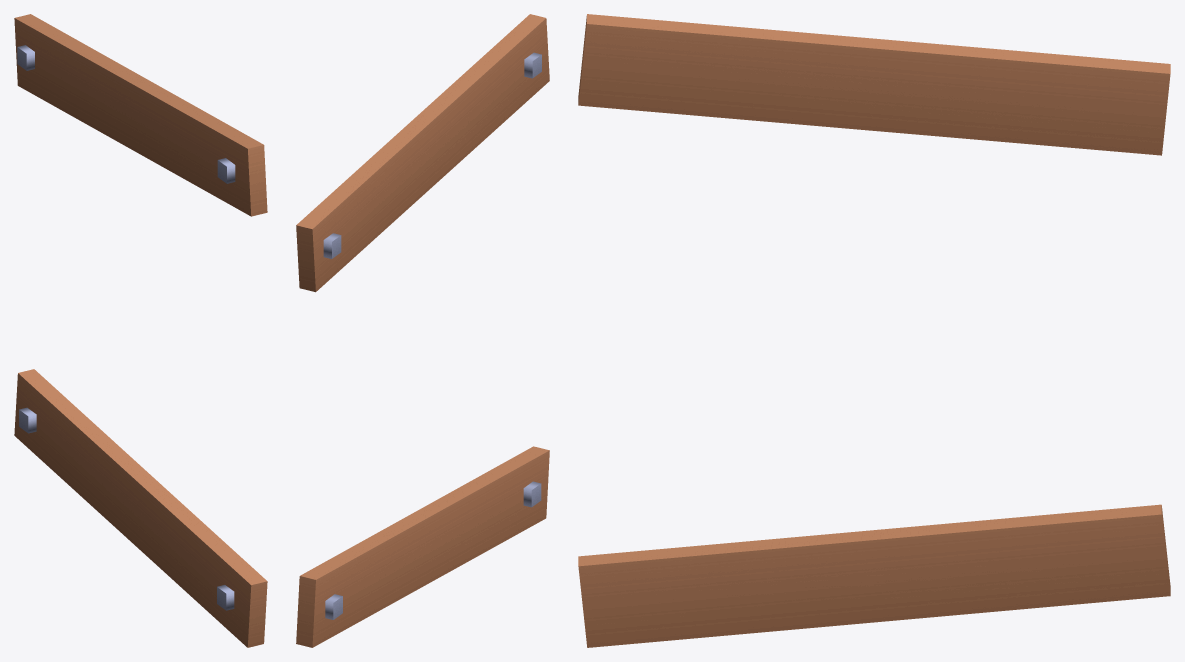
Rendered from barricade-doorway.glb.
3 renders of one model, left to right at view 1: azimuth 30°, elevation 25°; view 2: azimuth 150°, elevation 25°; view 3: azimuth 270°, elevation 25°, orthographic. The views are drawn at different scales.
Visible parts, largest first — view 1: barricade-doorway-a; view 2: barricade-doorway-a; view 3: barricade-doorway-a.
Part boxes in pixels (<box>): barricade-doorway-a: <box>14,14,267,647</box>; barricade-doorway-a: <box>296,14,549,647</box>; barricade-doorway-a: <box>578,14,1170,647</box>.
Bounding box in the file's own units: 0.075 × 1.46 × 1.26.
Materials: 1 (1 with a texture image).
